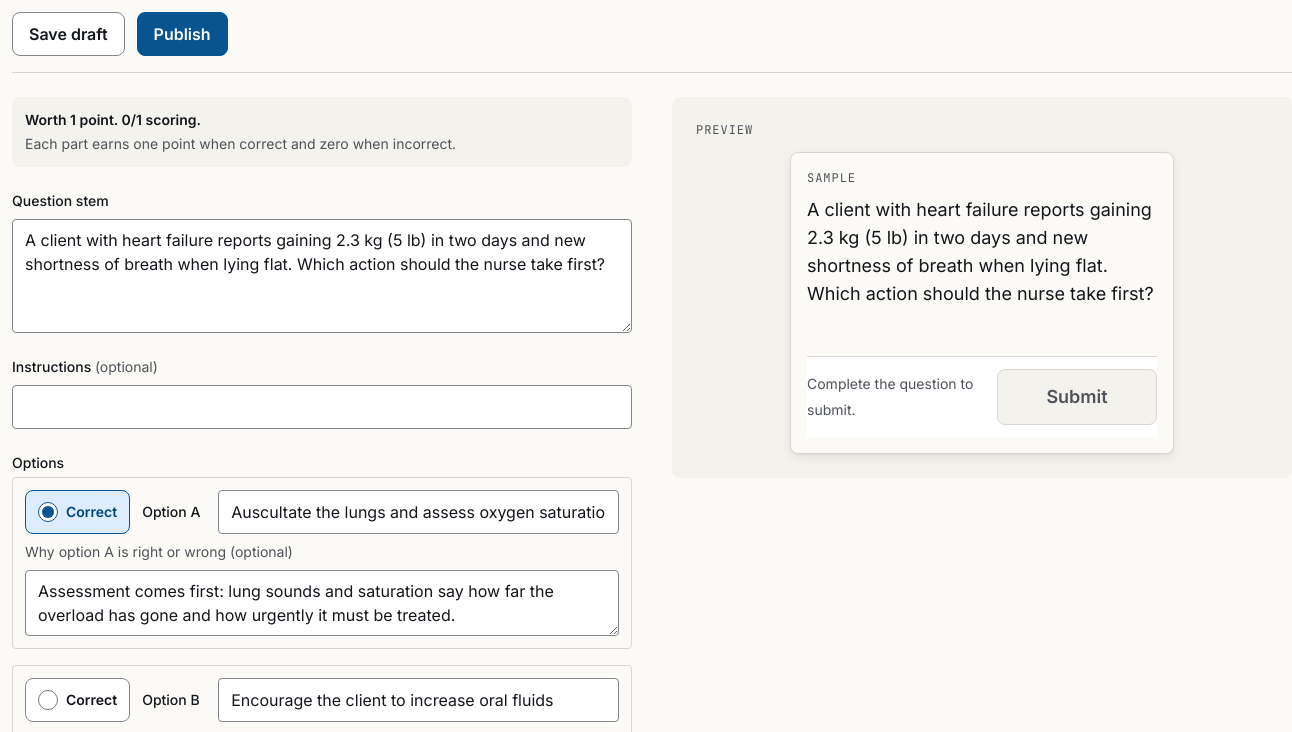
Test: EditorShell when a save or publish request itself fails › shows an error and re-enables Publish when Publish rejects
Click the button "Publish": (182, 34) [137,12,228,56]
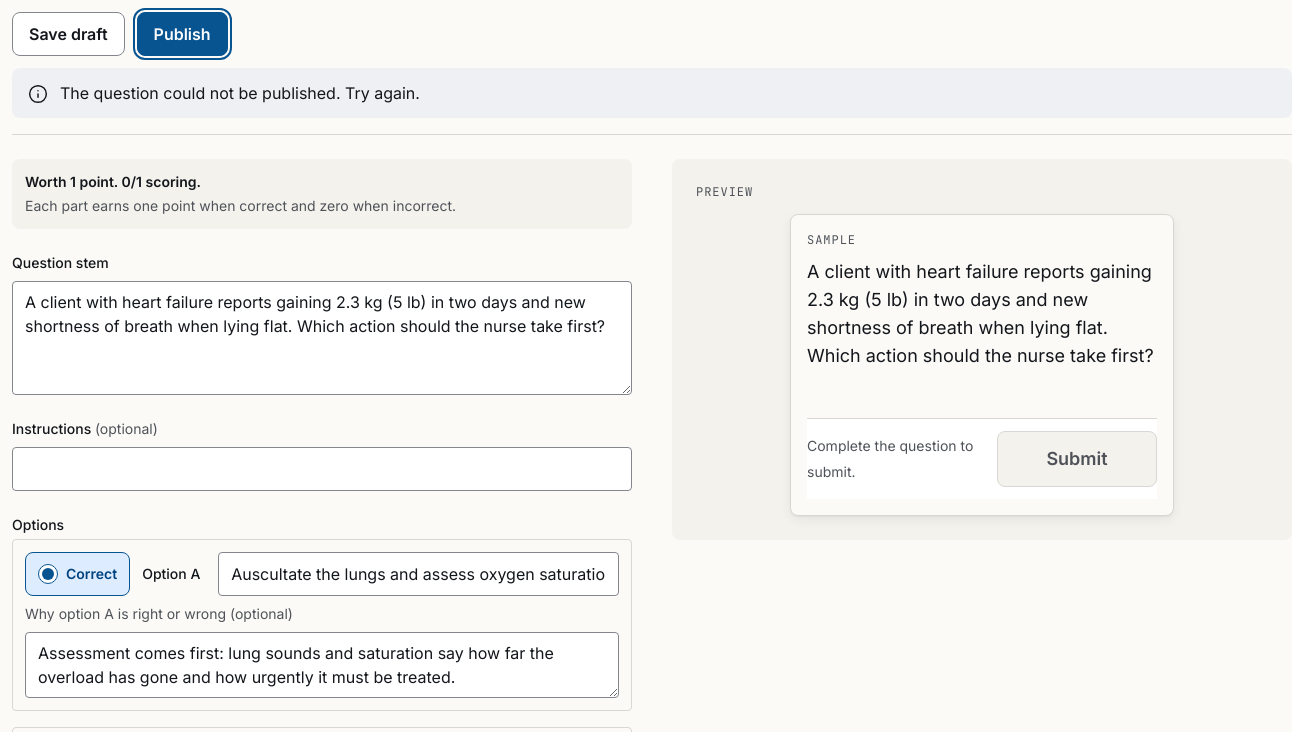
Expected: the button "Save draft" is enabled, [12,12,125,56]
Now the message reads "The question could not be published. Try again.", box [60,83,420,103]
